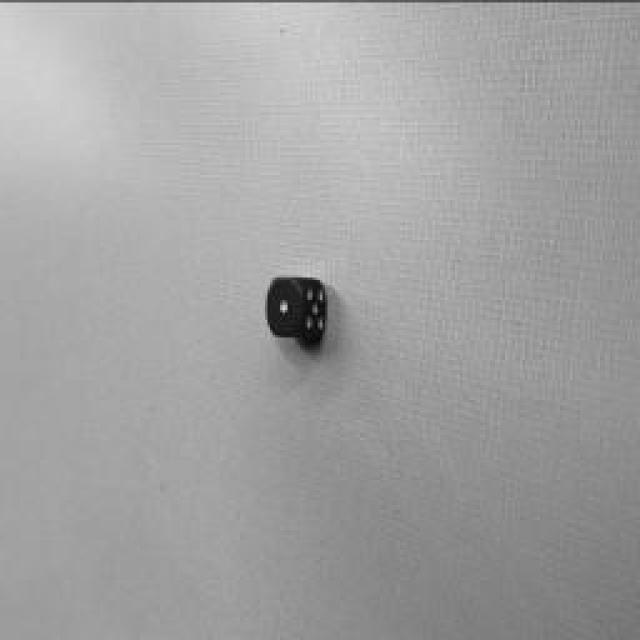dice_1: (268, 276, 302, 336)
